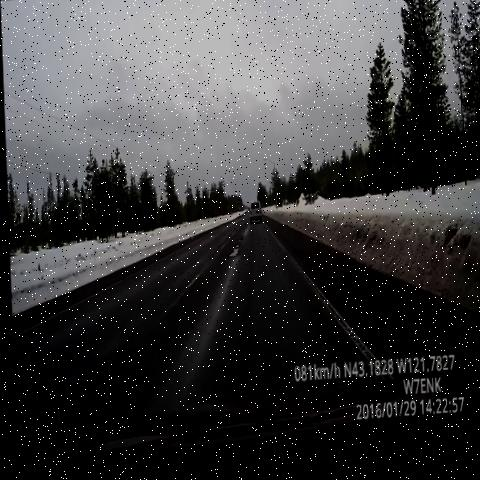pothole: (221, 230, 248, 271)
